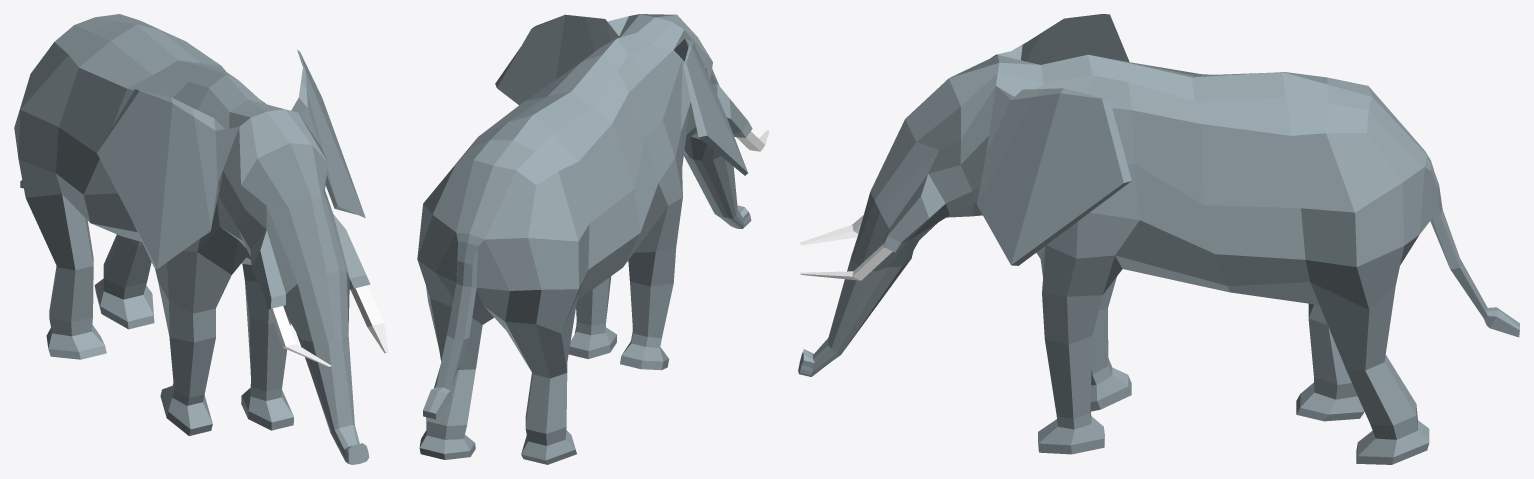
Rendered from Elefant2.fbx.
3 views of the same model, side by side, from view 1: azimuth 30°, elevation 25°; view 2: azimuth 150°, elevation 25°; view 3: azimuth 270°, elevation 25° (orthographic). The views are drawn at different scales.
Visible parts, largest first — view 1: Elefant2; view 2: Elefant2; view 3: Elefant2.
Boxes of the visible parts, <box> form: Elefant2: <box>14,14,388,464</box>; Elefant2: <box>417,14,769,464</box>; Elefant2: <box>798,14,1519,464</box>.
Bounding box in the file's own units: 1.92 × 2.87 × 4.9.
